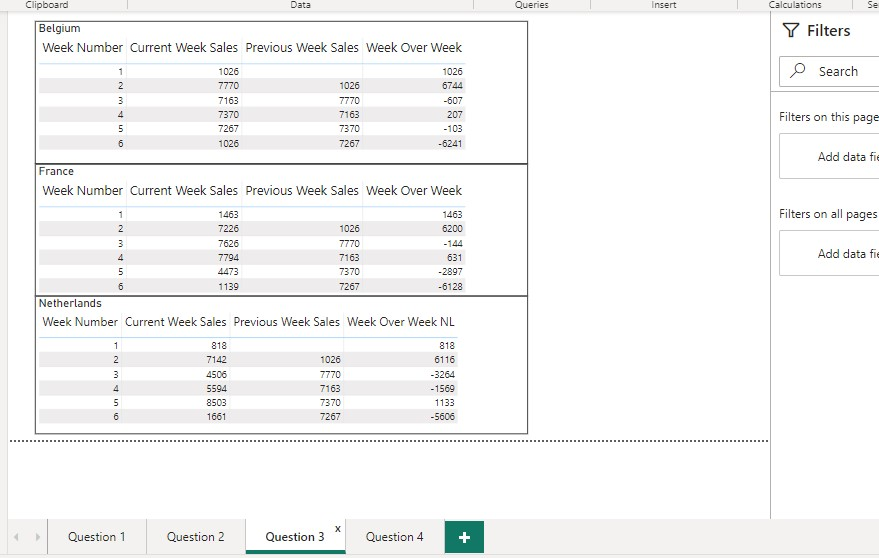

What the dashboard file says about the page in this screenshot:
{"tool":"powerbi","page":{"name":"Question 3","canvas":[1280,720],"ordinal":2},"visuals":[{"type":"tableEx","title":"Belgium","fields":{"Values":["Calendar.Week Number","Begium.TotalWeeklySales","Begium.Previous Week Sales Belgium","Begium.Week OVer Week Belgium"]},"box":[45.4,16.8,828.1,240.2],"z":2},{"type":"tableEx","title":"France","fields":{"Values":["Calendar.Week Number","France.TotalWeeklySales France","France.Previous Week Sales France","France.Week Over Week France"]},"box":[45.4,257,828.1,221.7],"z":3},{"type":"tableEx","title":"Netherlands","fields":{"Values":["Calendar.Week Number","Netherlands.TotalWeeklySales NL","Netherlands.Previous Week Sales Netherlands","Netherlands.Week Over Week NL"]},"box":[45.4,478.7,828.1,231.8],"z":4}]}

Visuals, with their boxes on the page's 1280x720 design canvas (x1, y1, x2, y2). These are canvas units, not pixel positions in the 879x558 screenshot, which may show the page scaled, cropped or inside an application window:
"Belgium" tableEx: 45,17,874,257
"France" tableEx: 45,257,874,479
"Netherlands" tableEx: 45,479,874,710
